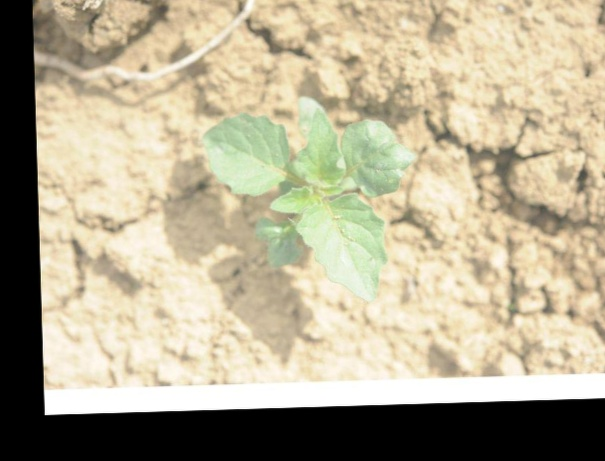nightshade: (200, 96, 417, 303)
